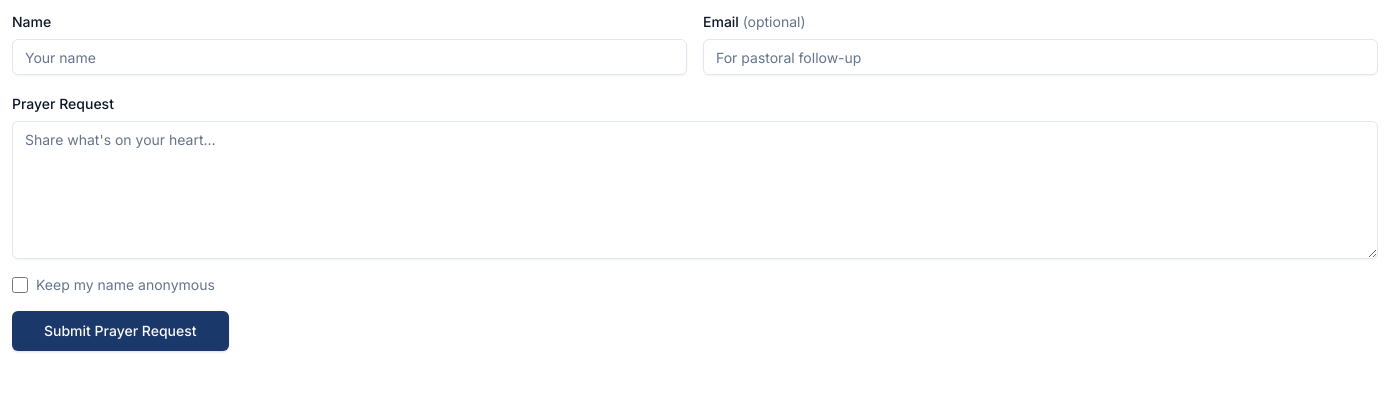
PrayerRequestForm › error clearing on change › clears the request error when the user types into the request field
Click the button "Submit Prayer Request".
click(120, 331)  # box [12, 311, 228, 351]
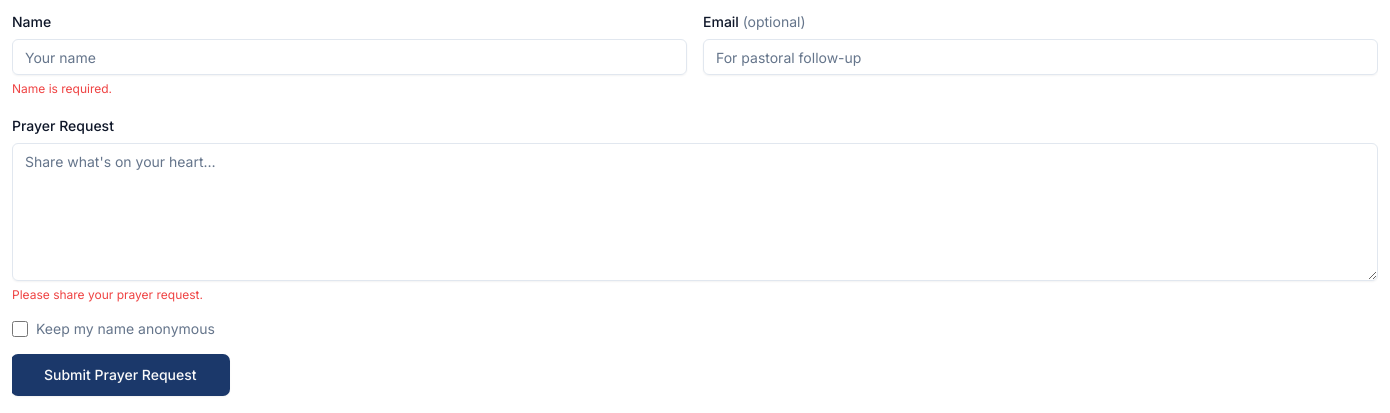
Now the text "Please share your prayer request." is shown, box [12, 287, 203, 302]
Type "P" into the text box labelled "Prayer Request".
click(695, 212); type("P")  # box [12, 143, 1378, 281]
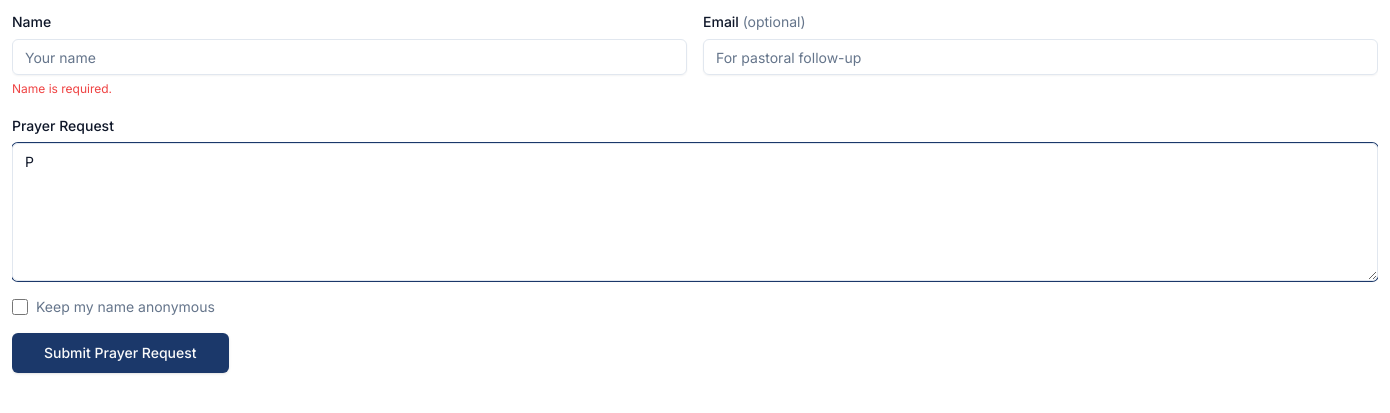
Now the text "Please share your prayer request." is gone
